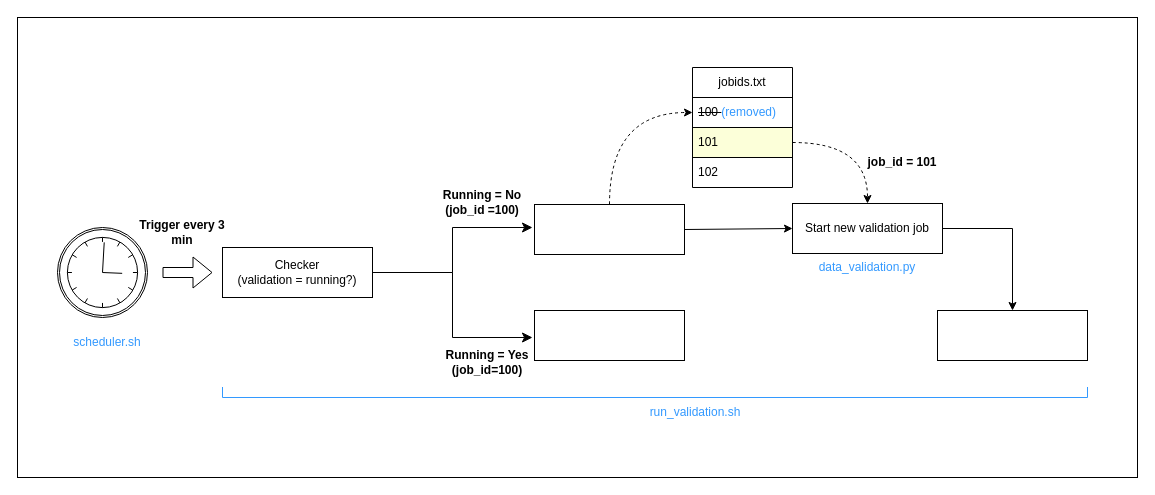
This 1155x495 diagram has some shape labels left out. Here are the shapes that lost their labels. From the top down, the centre of each, then its label:
At pixel 609 229: "Remove job_id = 100 from jobids.txt".
At pixel 609 335: "Do nothing & quit".
At pixel 1012 335: "Logs (stdout, stderr)".
